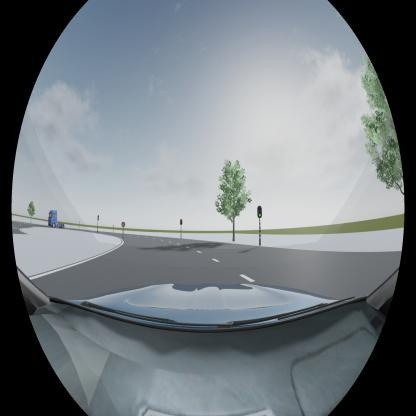Green Light: (257, 206, 262, 218)
Red Light: (180, 219, 182, 225)
